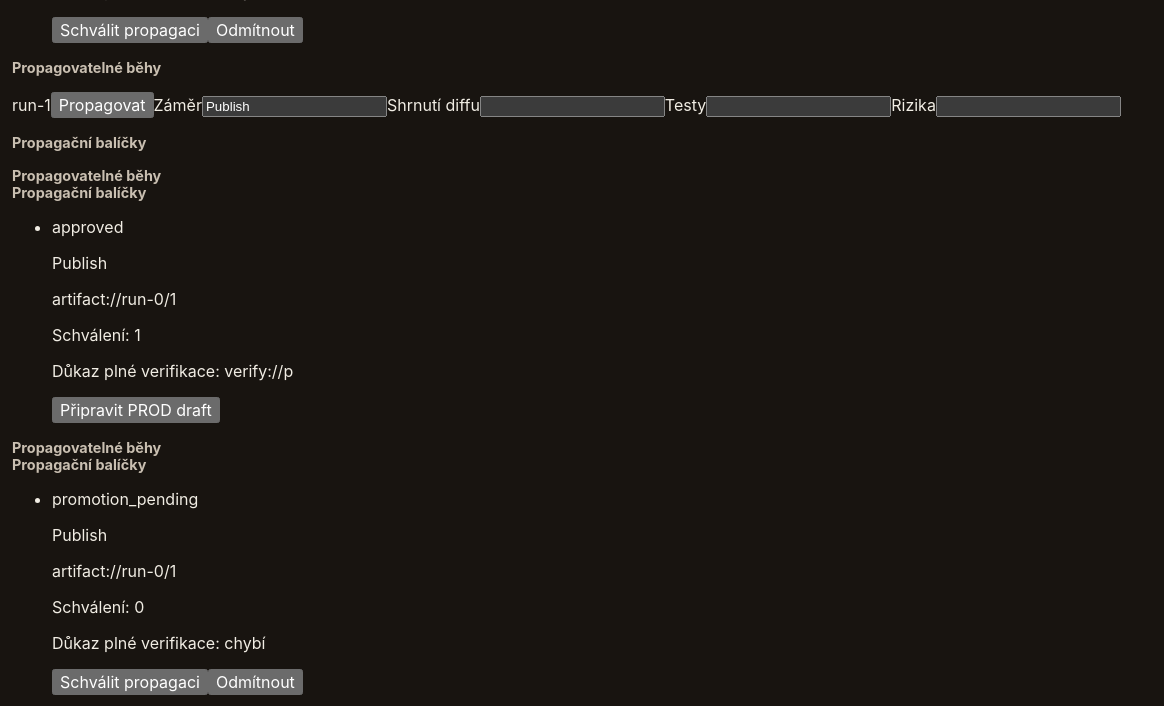
it: PromotionPane › catches a mutation failure and announces it accessibly
(page scrolled)
Step 1. Click the 2nd button "Odmítnout" → (255,682), box [208,669,303,695]
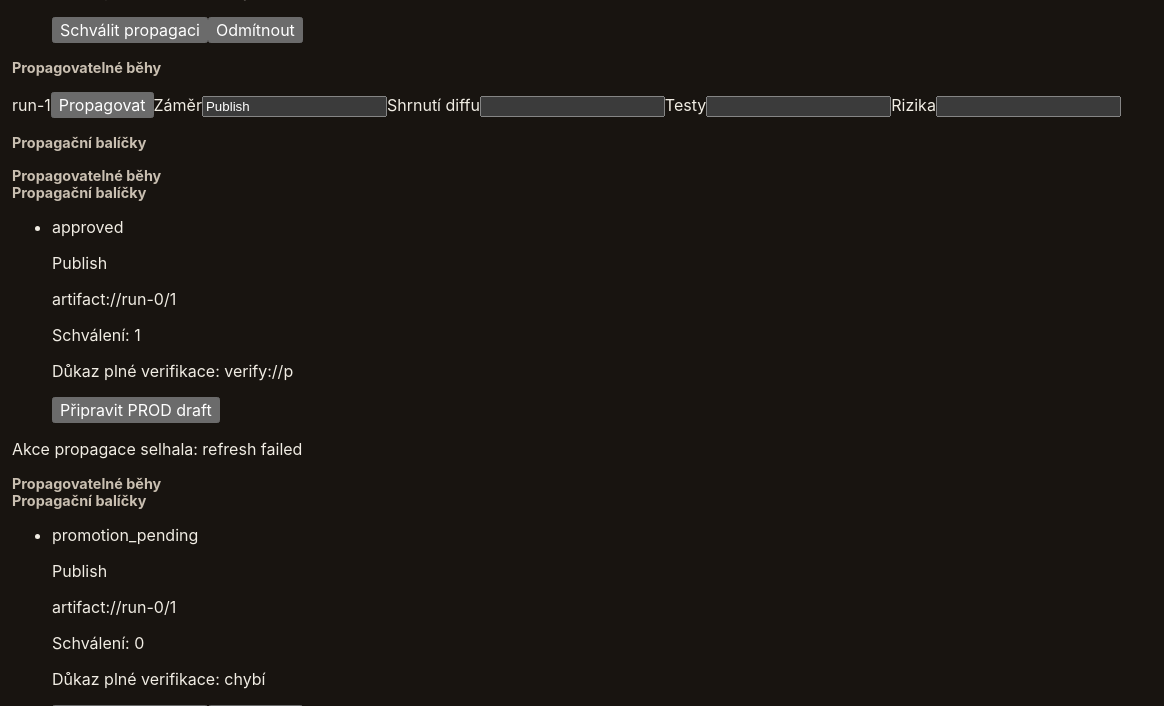
Now the message "Akce propagace selhala: refresh failed" is shown, box [12,439,302,459]
